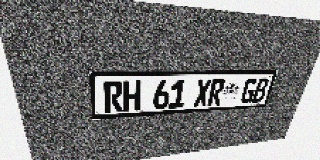1: (169, 79, 187, 108)
6: (153, 80, 171, 110)
B: (251, 78, 270, 103)
G: (240, 78, 258, 104)
H: (123, 80, 141, 112)
R: (103, 81, 123, 113), (207, 79, 226, 106)
X: (193, 79, 212, 107)
